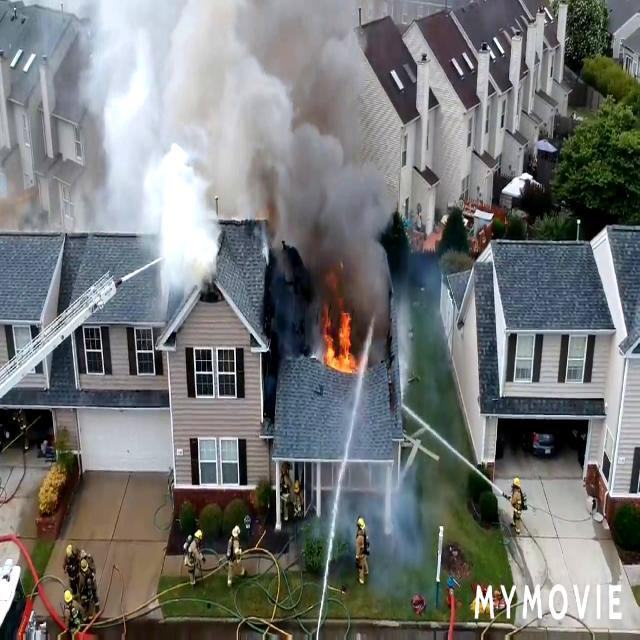Fire: (311, 304, 367, 380)
Smoke: (24, 0, 394, 320), (389, 248, 467, 412), (358, 468, 446, 610)
